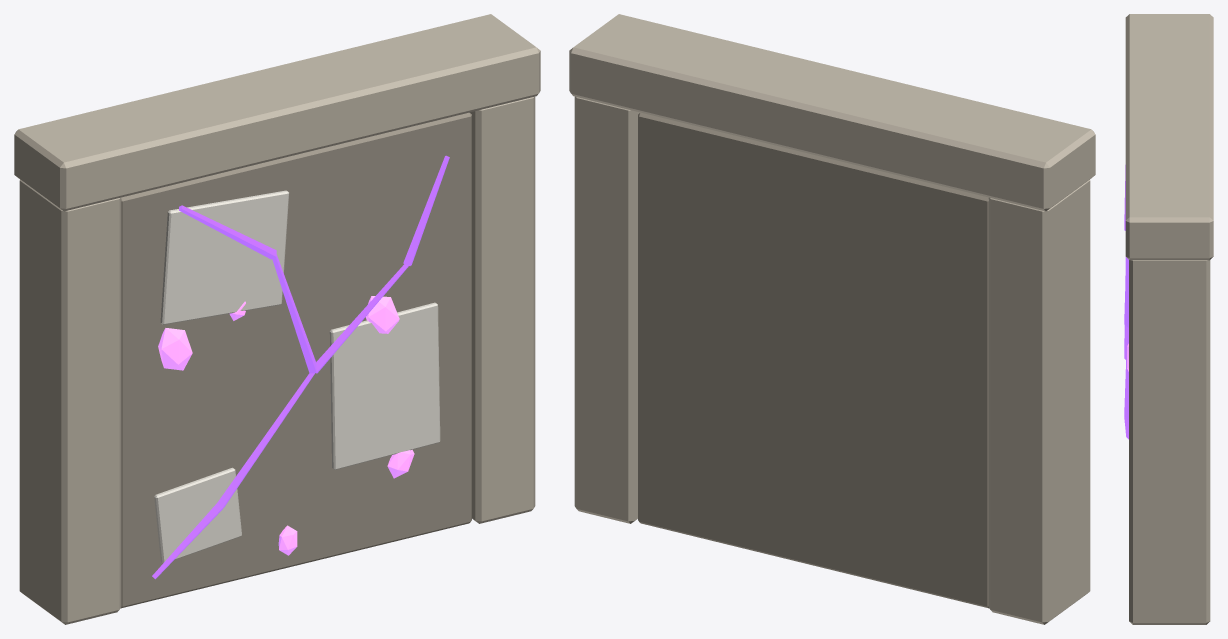
The model's file is TC_ENV_CrackedGate_V1.gltf.
3 renders of one model, left to right at view 1: azimuth 30°, elevation 25°; view 2: azimuth 150°, elevation 25°; view 3: azimuth 270°, elevation 25°, orthographic. The views are drawn at different scales.
Visible parts, largest first — view 1: TC_Gate_Infill, TC_Gate_Lintel, TC_Gate_Jamb_-1, TC_Gate_Jamb_1, TC_Gate_InfillRender_1, TC_Gate_InfillRender_0, TC_Gate_InfillRender_2, TC_Gate_Crack_0, TC_Gate_Resin_0, TC_Gate_Crack_1, TC_Gate_Crack_2, TC_Gate_Crack_4 (+3 smaller); view 2: TC_Gate_Infill, TC_Gate_Lintel, TC_Gate_Jamb_-1, TC_Gate_Jamb_1; view 3: TC_Gate_Jamb_1, TC_Gate_Lintel, TC_Gate_Crack_3, TC_Gate_Crack_0.
Part boxes in pixels (x1,y1,x2,y2): TC_Gate_Infill: (121, 112, 471, 608); TC_Gate_Lintel: (14, 14, 540, 211); TC_Gate_Jamb_-1: (19, 179, 121, 624); TC_Gate_Jamb_1: (469, 96, 535, 523); TC_Gate_InfillRender_1: (329, 302, 440, 469); TC_Gate_InfillRender_0: (160, 190, 289, 324); TC_Gate_InfillRender_2: (154, 467, 241, 562); TC_Gate_Crack_0: (217, 373, 315, 507); TC_Gate_Resin_0: (158, 328, 192, 370); TC_Gate_Crack_1: (272, 255, 316, 373); TC_Gate_Crack_2: (316, 264, 408, 373); TC_Gate_Crack_4: (179, 205, 276, 259); TC_Gate_Infill: (638, 112, 988, 608); TC_Gate_Lintel: (569, 14, 1095, 211); TC_Gate_Jamb_-1: (988, 179, 1090, 624); TC_Gate_Jamb_1: (574, 96, 640, 523); TC_Gate_Jamb_1: (1129, 260, 1210, 624); TC_Gate_Lintel: (1125, 14, 1213, 260); TC_Gate_Crack_3: (1124, 257, 1128, 327); TC_Gate_Crack_0: (1124, 360, 1128, 420).
Bounding box in the file's own units: 3.6 × 3.33 × 0.66.
